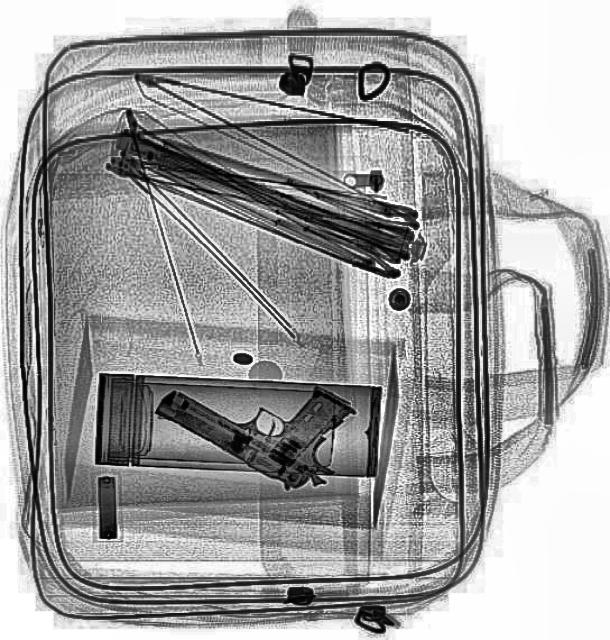Gun: (152, 321, 370, 504)
